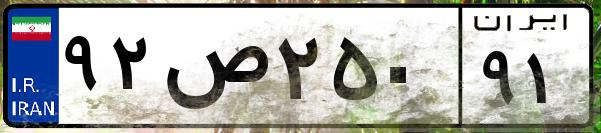0: (385, 28, 445, 110)
1: (525, 38, 570, 115)
2: (270, 28, 330, 110), (110, 28, 158, 98)
5: (330, 28, 385, 110)
9: (57, 26, 110, 100), (475, 38, 525, 113)
ص: (158, 20, 270, 120)
